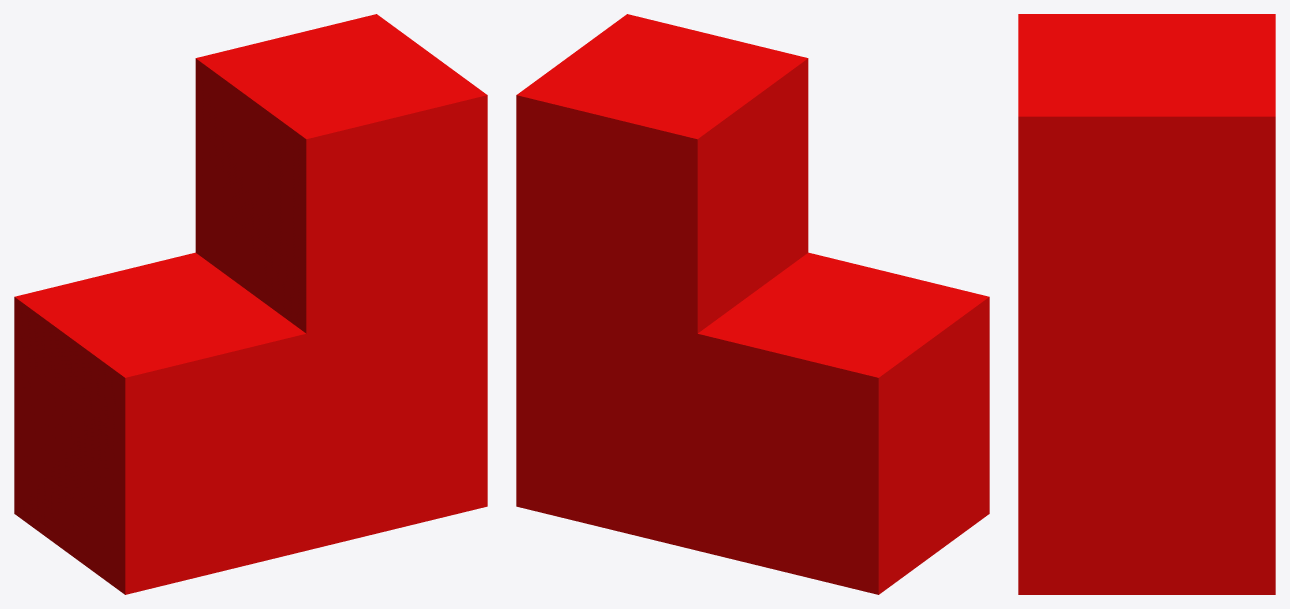
The model's file is carriage.obj.
3 renders of one model, left to right at view 1: azimuth 30°, elevation 25°; view 2: azimuth 150°, elevation 25°; view 3: azimuth 270°, elevation 25°, orthographic. The views are drawn at different scales.
Visible parts, largest first — view 1: trackman_Cube.001; view 2: trackman_Cube.001; view 3: trackman_Cube.001.
Boxes of the visible parts, x1=… form: trackman_Cube.001: x1=14, y1=14, x2=487, y2=594; trackman_Cube.001: x1=516, y1=14, x2=989, y2=594; trackman_Cube.001: x1=1018, y1=14, x2=1275, y2=594.
Size of the model in its own units: 1.4 by 1.52 by 0.7417.
Materials: 1 (1 with a texture image).
